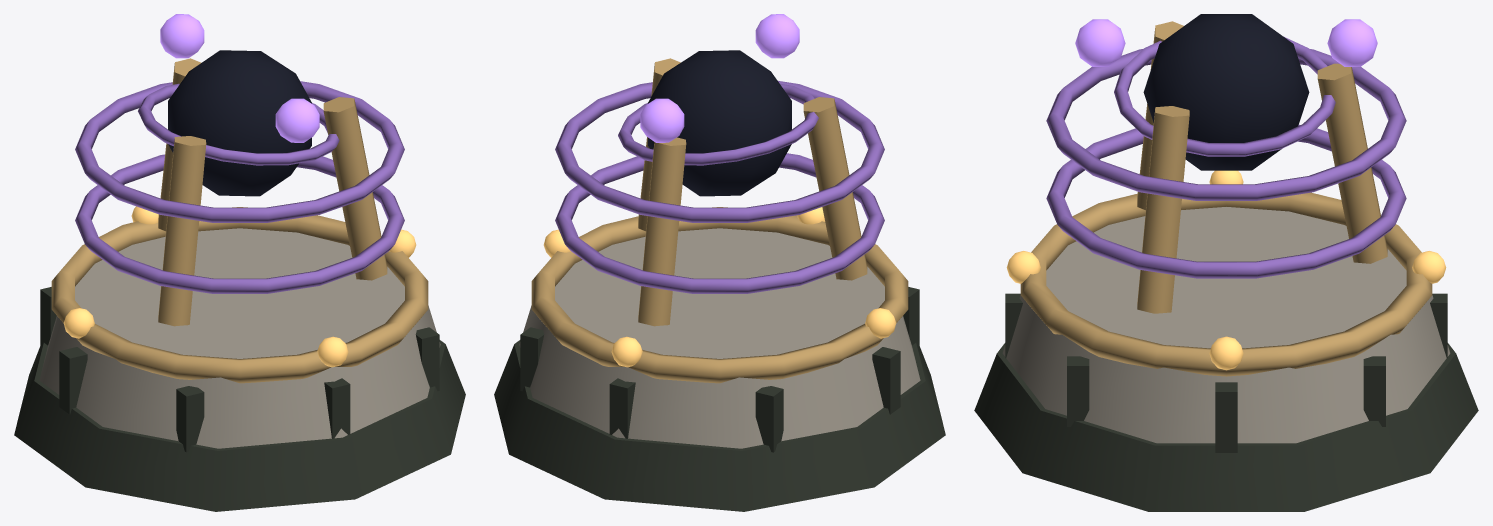
The model's file is tower_gravity_gravityTide.glb.
3 views of the same model, side by side, from view 1: azimuth 30°, elevation 25°; view 2: azimuth 150°, elevation 25°; view 3: azimuth 270°, elevation 25° (orthographic). The views are drawn at different scales.
Parts seen in each view (by area): view 1: stone_1, foot_0, rim_2, black_hole_15, pulse_21, pulse_20, claw_18, claw_17, accretion_19, satellite_22, satellite_23, mortar_6 (+7 smaller); view 2: stone_1, foot_0, rim_2, black_hole_15, pulse_21, pulse_20, claw_16, claw_18, accretion_19, satellite_23, satellite_22, mortar_8 (+7 smaller); view 3: stone_1, foot_0, black_hole_15, rim_2, pulse_21, pulse_20, claw_17, claw_16, accretion_19, satellite_22, satellite_23, mortar_3 (+8 smaller).
Part boxes in pixels (box(x1,y1,x2,y2)): stone_1: box(39, 228, 440, 448); foot_0: box(14, 340, 465, 511); rim_2: box(51, 207, 428, 383); black_hole_15: box(168, 50, 311, 196); pulse_21: box(75, 81, 404, 222); pulse_20: box(75, 154, 404, 293); claw_18: box(158, 136, 206, 326); claw_17: box(323, 97, 387, 280); accretion_19: box(138, 83, 339, 165); satellite_22: box(275, 98, 319, 142); satellite_23: box(160, 14, 204, 58); mortar_6: box(176, 386, 204, 452); stone_1: box(519, 228, 920, 448); foot_0: box(494, 340, 945, 511); rim_2: box(531, 207, 908, 383); black_hole_15: box(648, 50, 791, 196); pulse_21: box(555, 81, 884, 222); pulse_20: box(555, 153, 884, 293); claw_16: box(638, 137, 686, 326); claw_18: box(803, 97, 867, 280); accretion_19: box(618, 83, 818, 165); satellite_23: box(640, 98, 684, 142); satellite_22: box(755, 14, 799, 58); mortar_8: box(755, 386, 783, 452); stone_1: box(1002, 207, 1450, 443); foot_0: box(974, 343, 1478, 511); black_hole_15: box(1143, 14, 1309, 170); rim_2: box(1020, 192, 1432, 376); pulse_21: box(1046, 49, 1406, 200); pulse_20: box(1046, 124, 1406, 278); claw_17: box(1137, 106, 1189, 313); claw_16: box(1317, 63, 1387, 263); accretion_19: box(1114, 36, 1335, 156); satellite_22: box(1075, 19, 1125, 66); satellite_23: box(1327, 19, 1377, 66); mortar_3: box(1215, 382, 1237, 452).
Bounding box in the file's own units: 0.5326 × 0.482 × 0.56.
